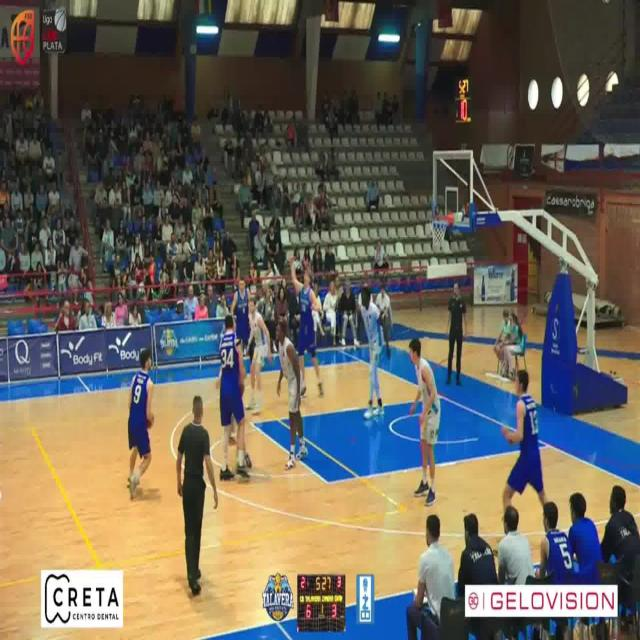ball: (146, 393, 154, 428)
basket: (432, 217, 452, 253)
player: (502, 369, 549, 512), (216, 313, 249, 481), (409, 337, 441, 506), (290, 257, 324, 397), (276, 321, 308, 469), (127, 348, 154, 500), (360, 284, 385, 419), (246, 295, 271, 414), (231, 276, 250, 351)
referee: (176, 395, 218, 596), (447, 281, 468, 385)
